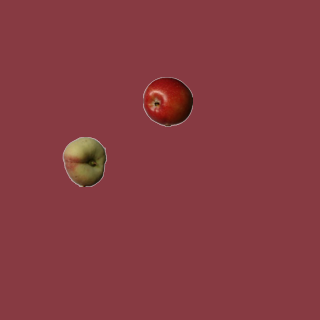Apple Braeburn: (142, 76, 192, 126)
Peach Flat: (59, 136, 109, 186)
